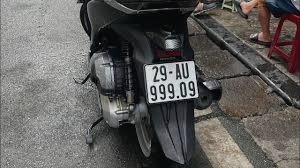Bien-so: (148, 61, 206, 110)
